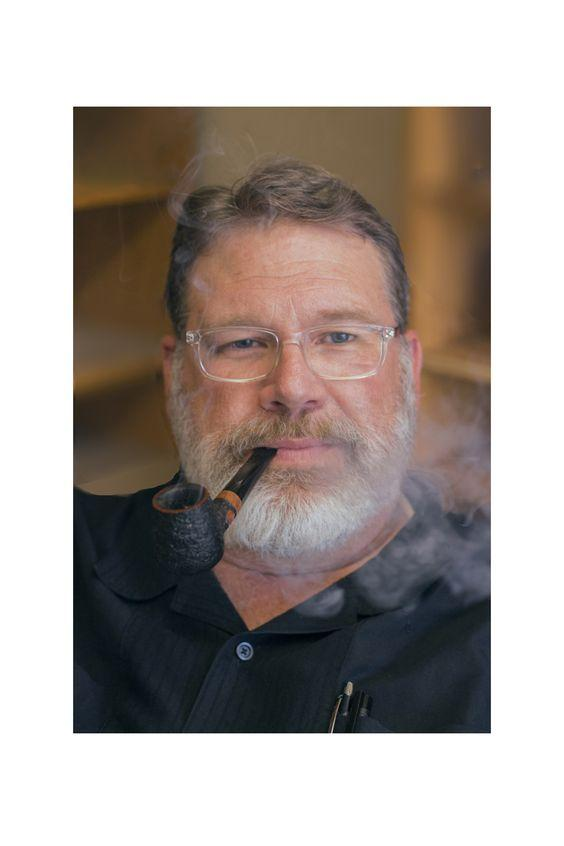trubka: (153, 449, 276, 573)
